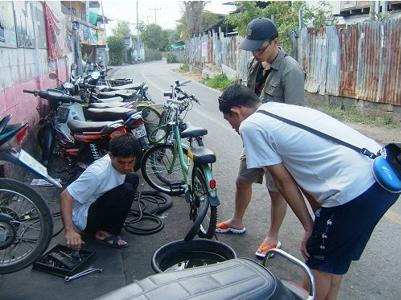person: (58, 133, 141, 252)
